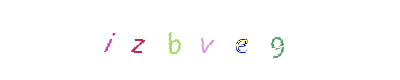9: (237, 0, 317, 80)
B: (159, 0, 239, 80)
E: (201, 0, 281, 80)
I: (89, 0, 169, 80)
V: (161, 0, 241, 80)
Z: (152, 0, 232, 80)
